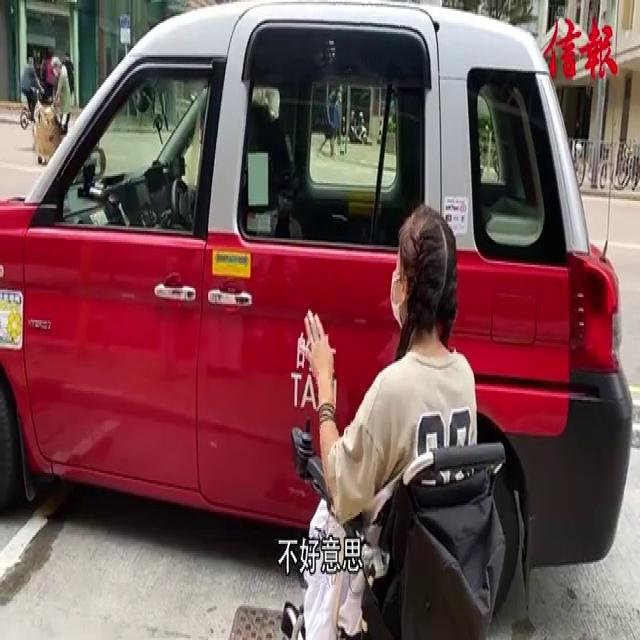wheelchairs: (264, 393, 529, 640)
